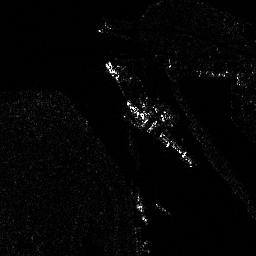ship: (159, 131, 194, 164)
